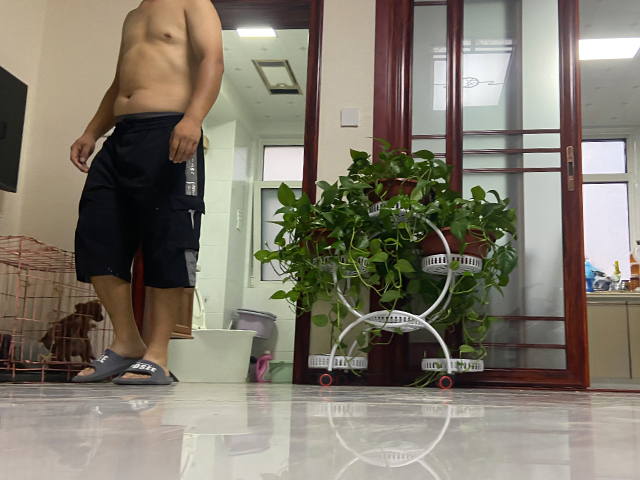cabinet: (586, 290, 640, 389)
closestool: (168, 282, 259, 384)
